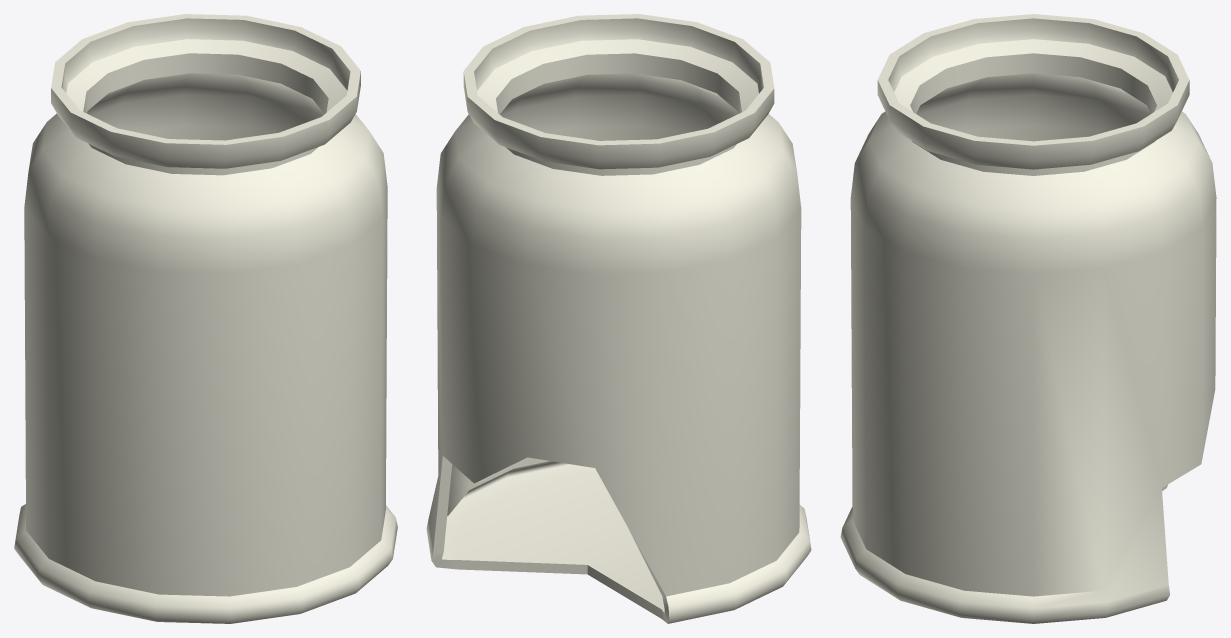
Rendered from Frasco_04.fbx.
The picture shows the model from 3 angles, left to right: view 1: azimuth 30°, elevation 25°; view 2: azimuth 150°, elevation 25°; view 3: azimuth 270°, elevation 25°; orthographic projection.
Parts seen in each view (by area): view 1: Frasco_04; view 2: Frasco_04; view 3: Frasco_04.
Part boxes in pixels (bbox=[...]): Frasco_04: bbox=[14, 14, 397, 623]; Frasco_04: bbox=[426, 14, 811, 623]; Frasco_04: bbox=[840, 14, 1216, 623].
Size of the model in its own units: 25.91 by 34.73 by 25.22.
